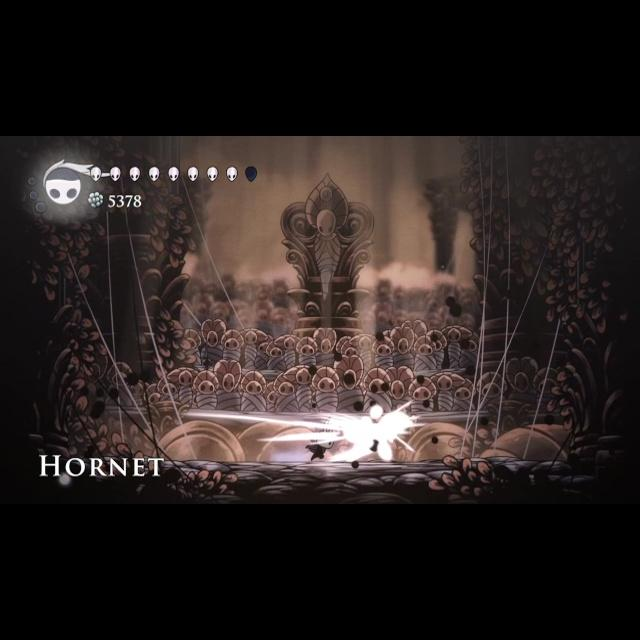Enemy: (358, 398, 418, 466)
Player: (307, 418, 341, 468)
